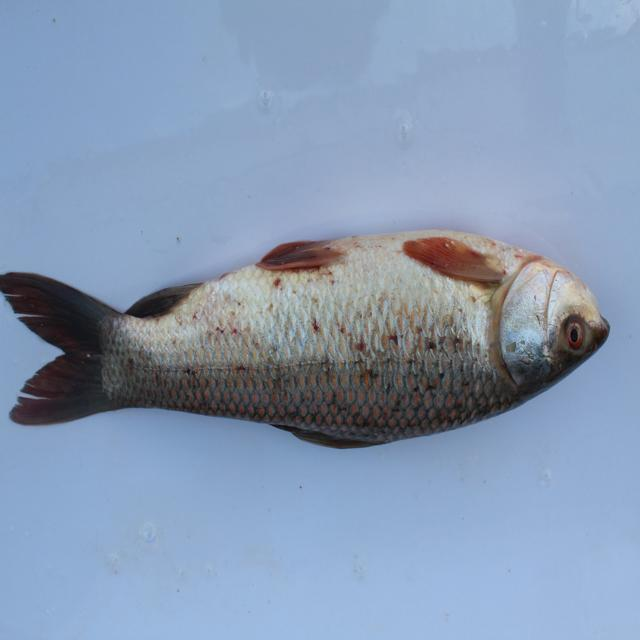Rohu: (1, 233, 608, 451)
